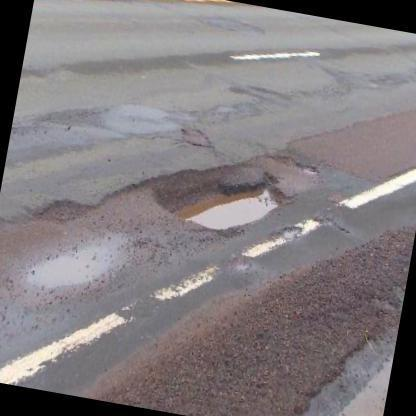pothole: (148, 168, 290, 236)
